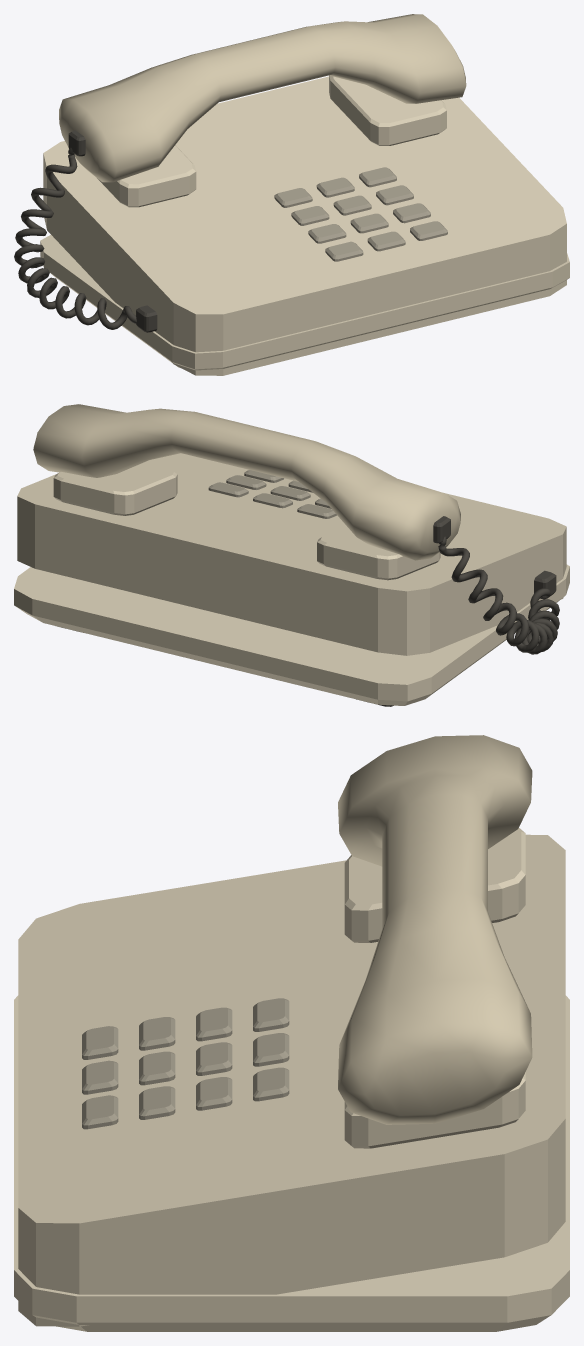
The model's file is counter-telephone.glb.
3 renders of one model, top to bottom at view 1: azimuth 30°, elevation 25°; view 2: azimuth 150°, elevation 25°; view 3: azimuth 270°, elevation 25°, orthographic. The views are drawn at different scales.
Parts seen in each view (by area): view 1: Corded telephone assembly; view 2: Corded telephone assembly; view 3: Corded telephone assembly.
Part boxes in pixels (x1,y1,x2,y2): Corded telephone assembly: (14, 14, 569, 375); Corded telephone assembly: (14, 404, 569, 706); Corded telephone assembly: (14, 735, 569, 1331).
Size of what is drawn, in the model's own units: 0.6391 by 0.2786 by 0.4.
